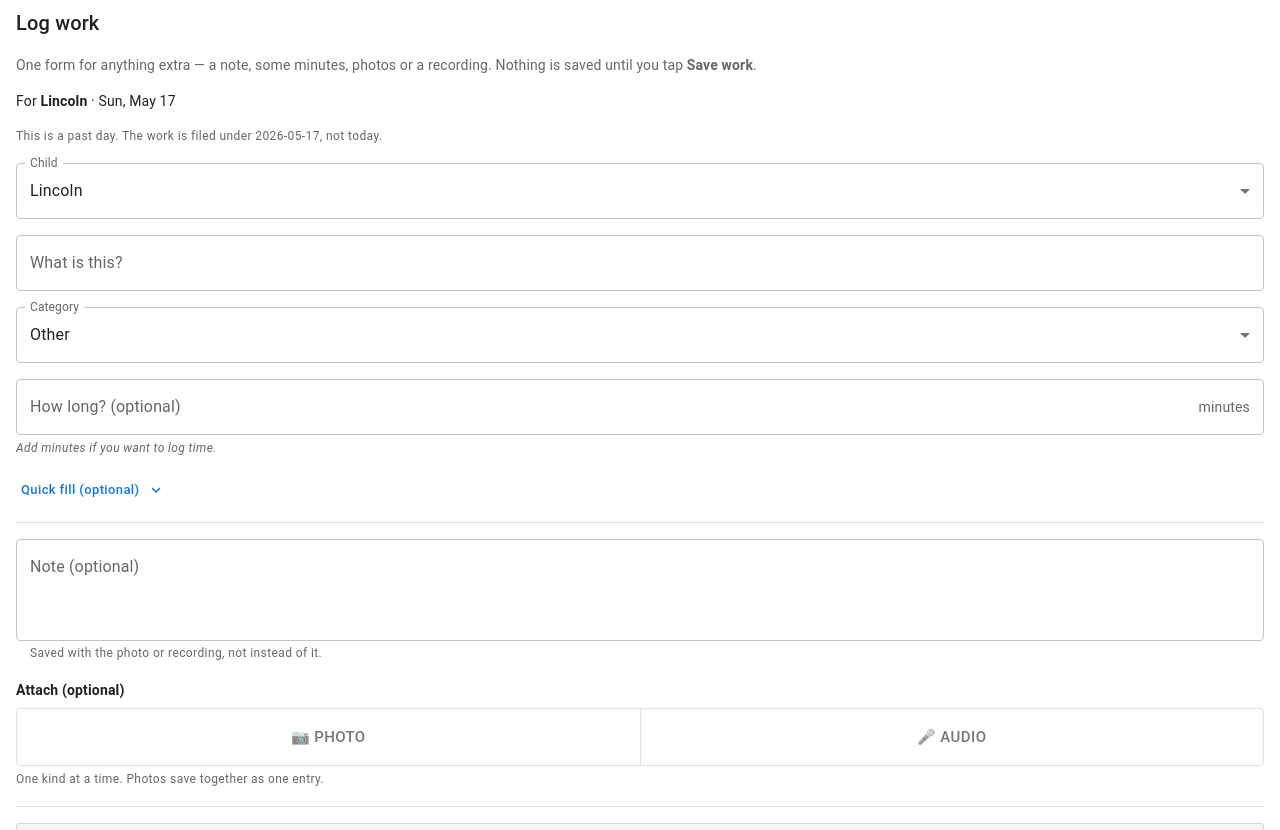
Test: Log work — a completion clears only its own draft (G1) › keeps a same-day draft edited while the save was in flight, and says so
The width and height of the screenshot is (1280, 830).
Click the button "Quick fill (optional)" at point(92, 490), box [16,475,168,506]
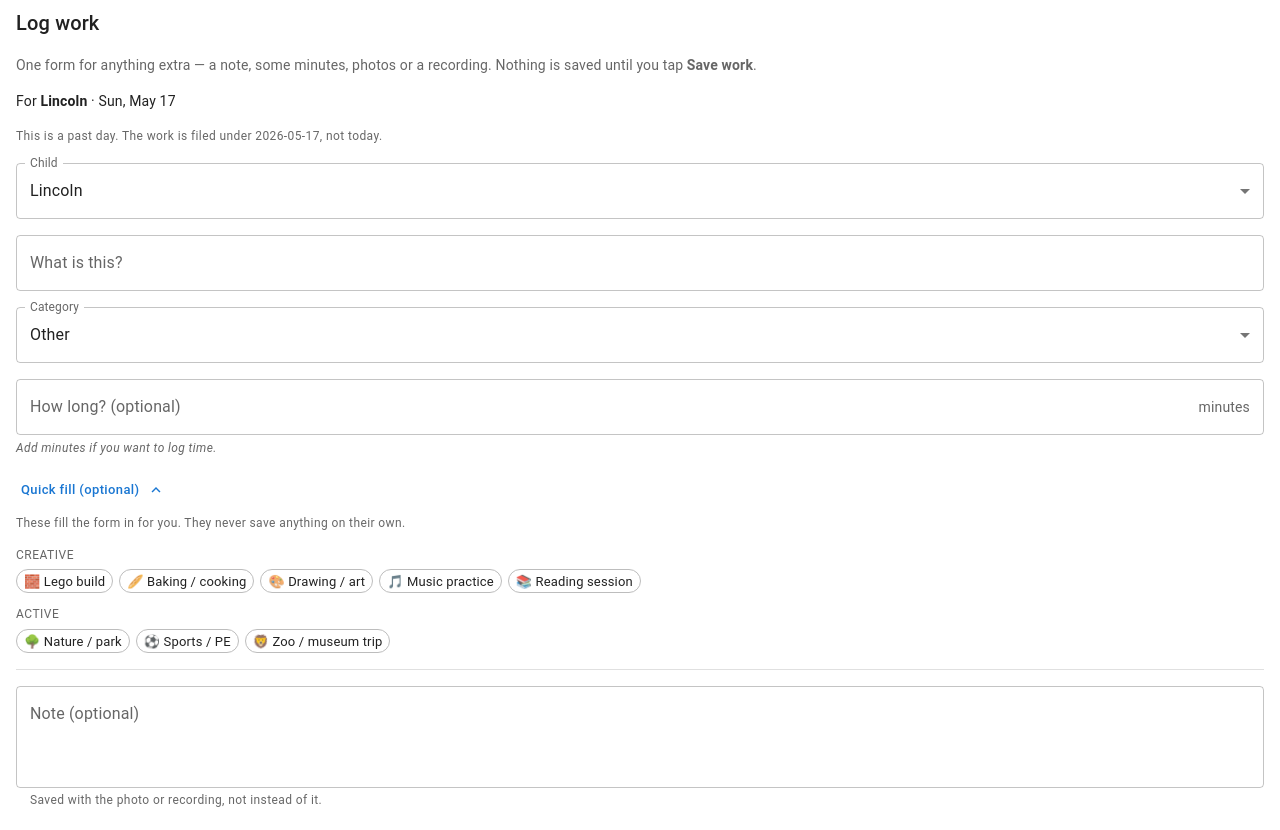
Click the button "🧱 Lego build" at point(65, 581), box [16,569,113,593]
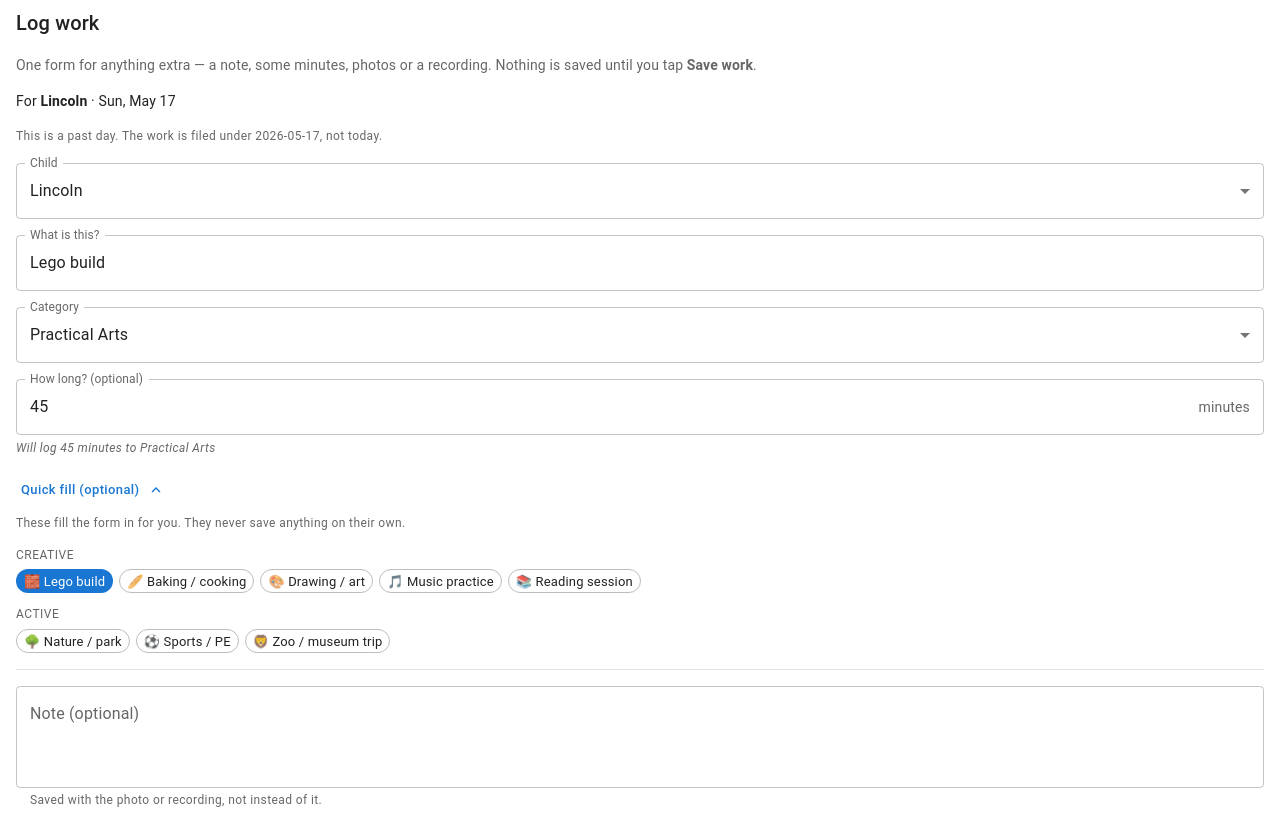
Type "Built a tower" into the text box labelled "Note (optional)" at point(640, 737), box [30,703,1250,772]
(page scrolled)
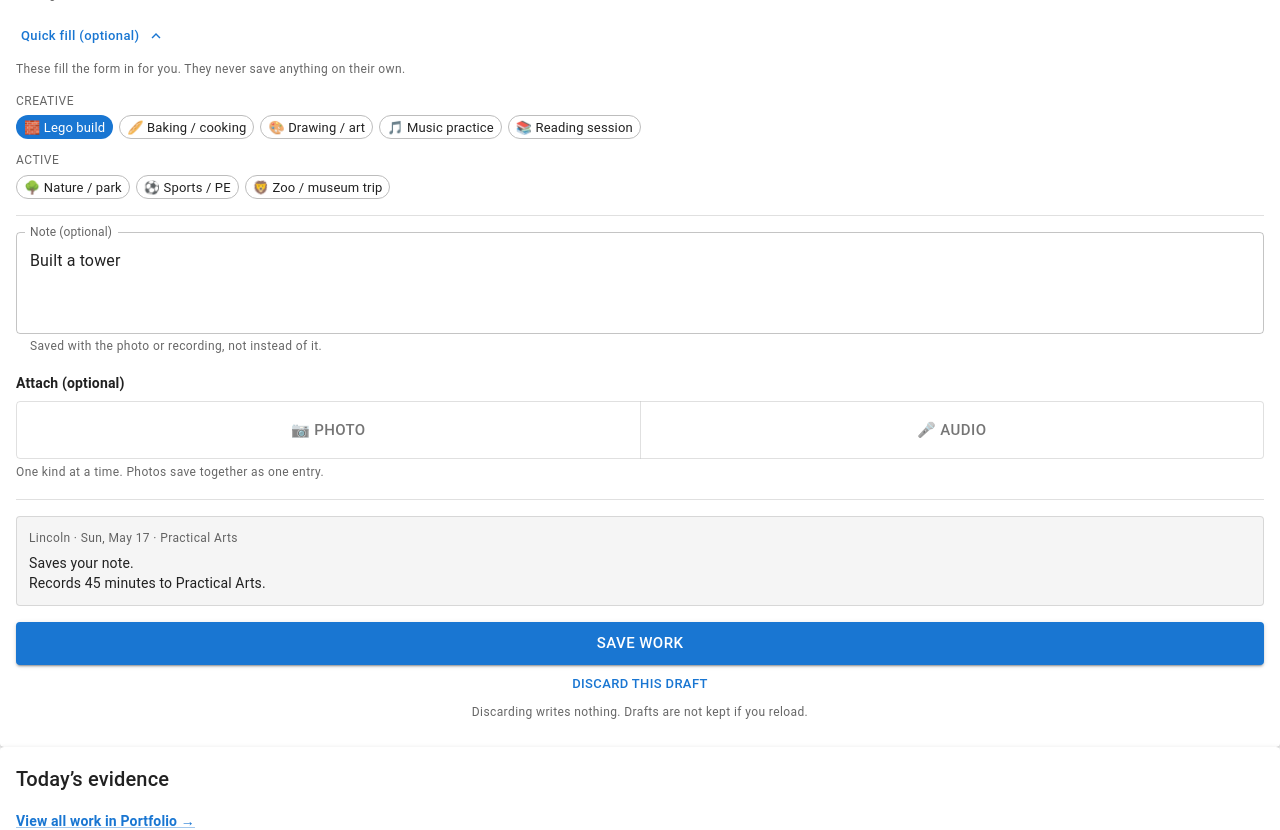
Click the button "Save work" at point(640, 643), box [16,622,1264,665]
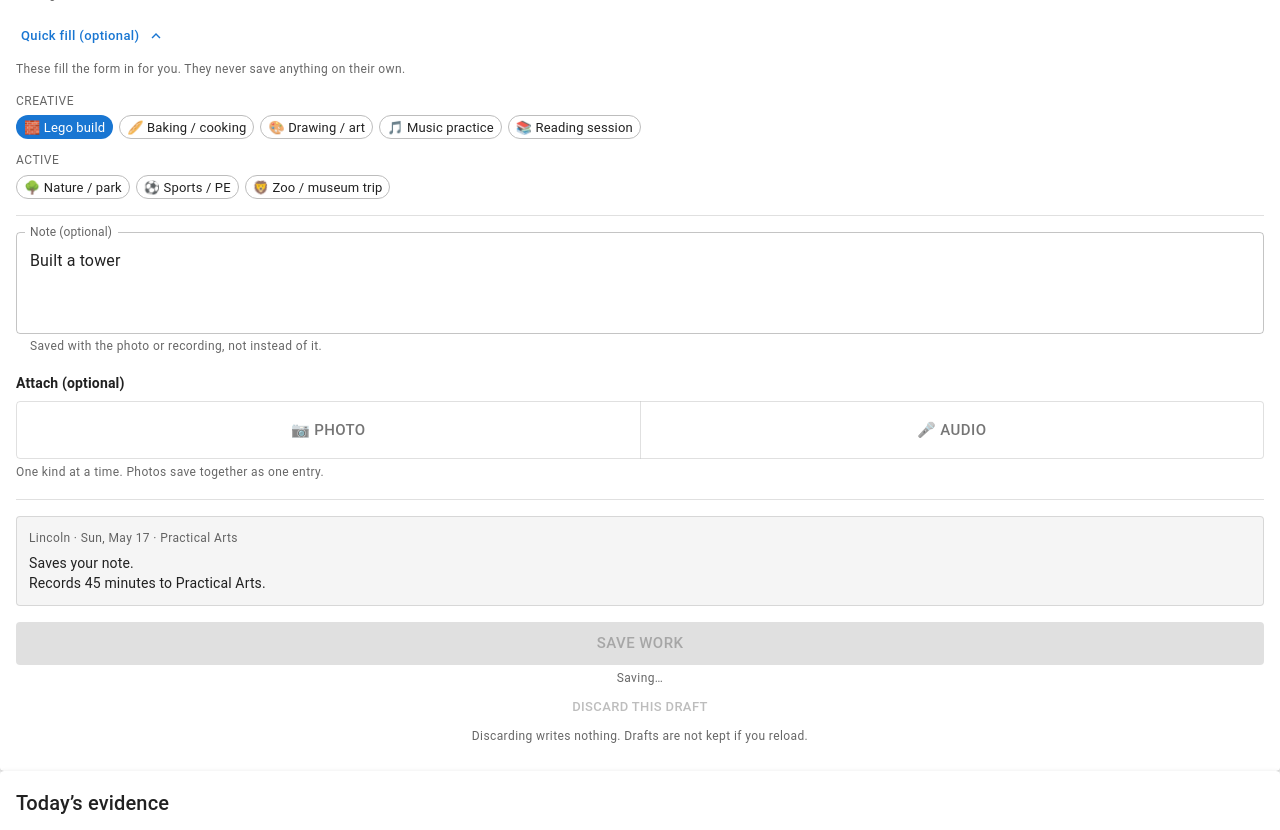
Replace the text in the text box labelled "Note (optional)" with "Built a tower and a bridge" at point(640, 283), box [30,249,1250,318]
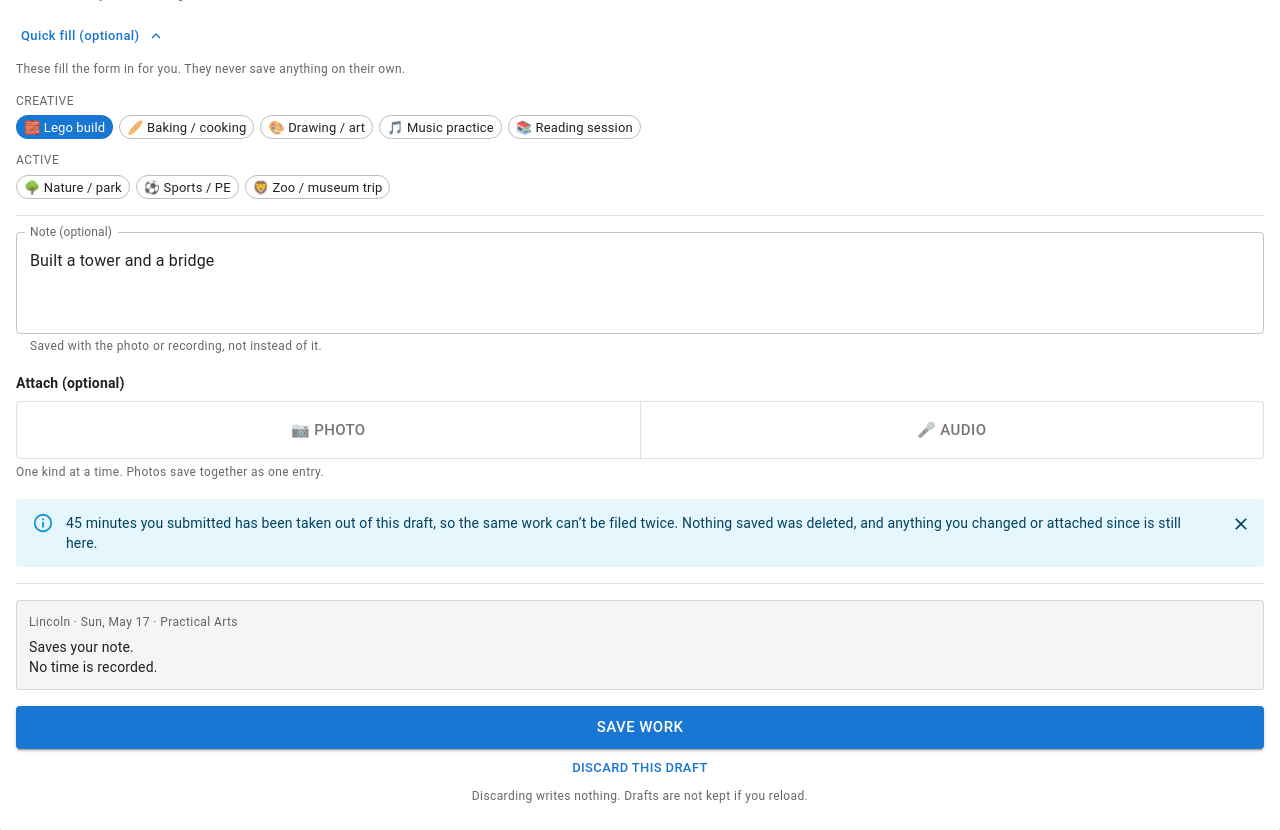
Now the message with test id "log-work-retired" shows "45 minutes you submitted", box [66,515,1181,551]
